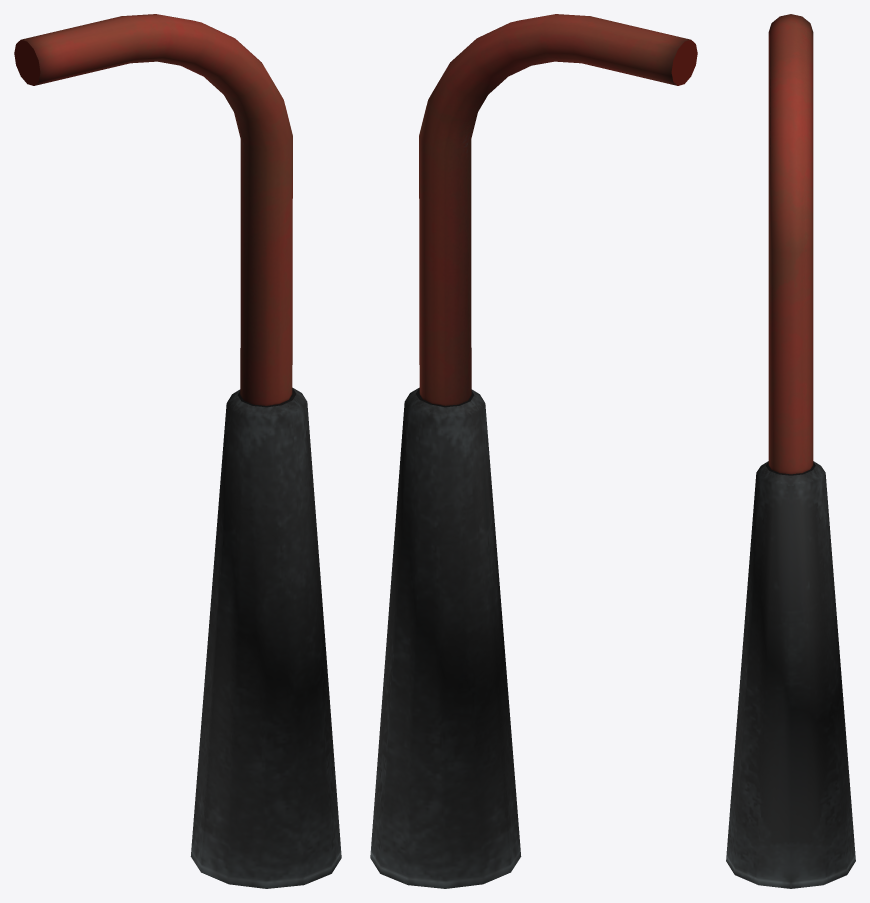
File: extintor_manguera_cifon.fbx
3 views of the same model, side by side, from view 1: azimuth 30°, elevation 25°; view 2: azimuth 150°, elevation 25°; view 3: azimuth 270°, elevation 25° (orthographic). The views are drawn at different scales.
Parts seen in each view (by area): view 1: fire_extinguisher_c02; view 2: fire_extinguisher_c02; view 3: fire_extinguisher_c02.
Boxes of the visible parts, x1,y1,x2,y2 form: fire_extinguisher_c02: (14, 14, 341, 888); fire_extinguisher_c02: (370, 14, 697, 888); fire_extinguisher_c02: (726, 14, 855, 888).
Size of the model in its own units: 10.48 by 28.8 by 4.53.
1 material, 1 textured.
